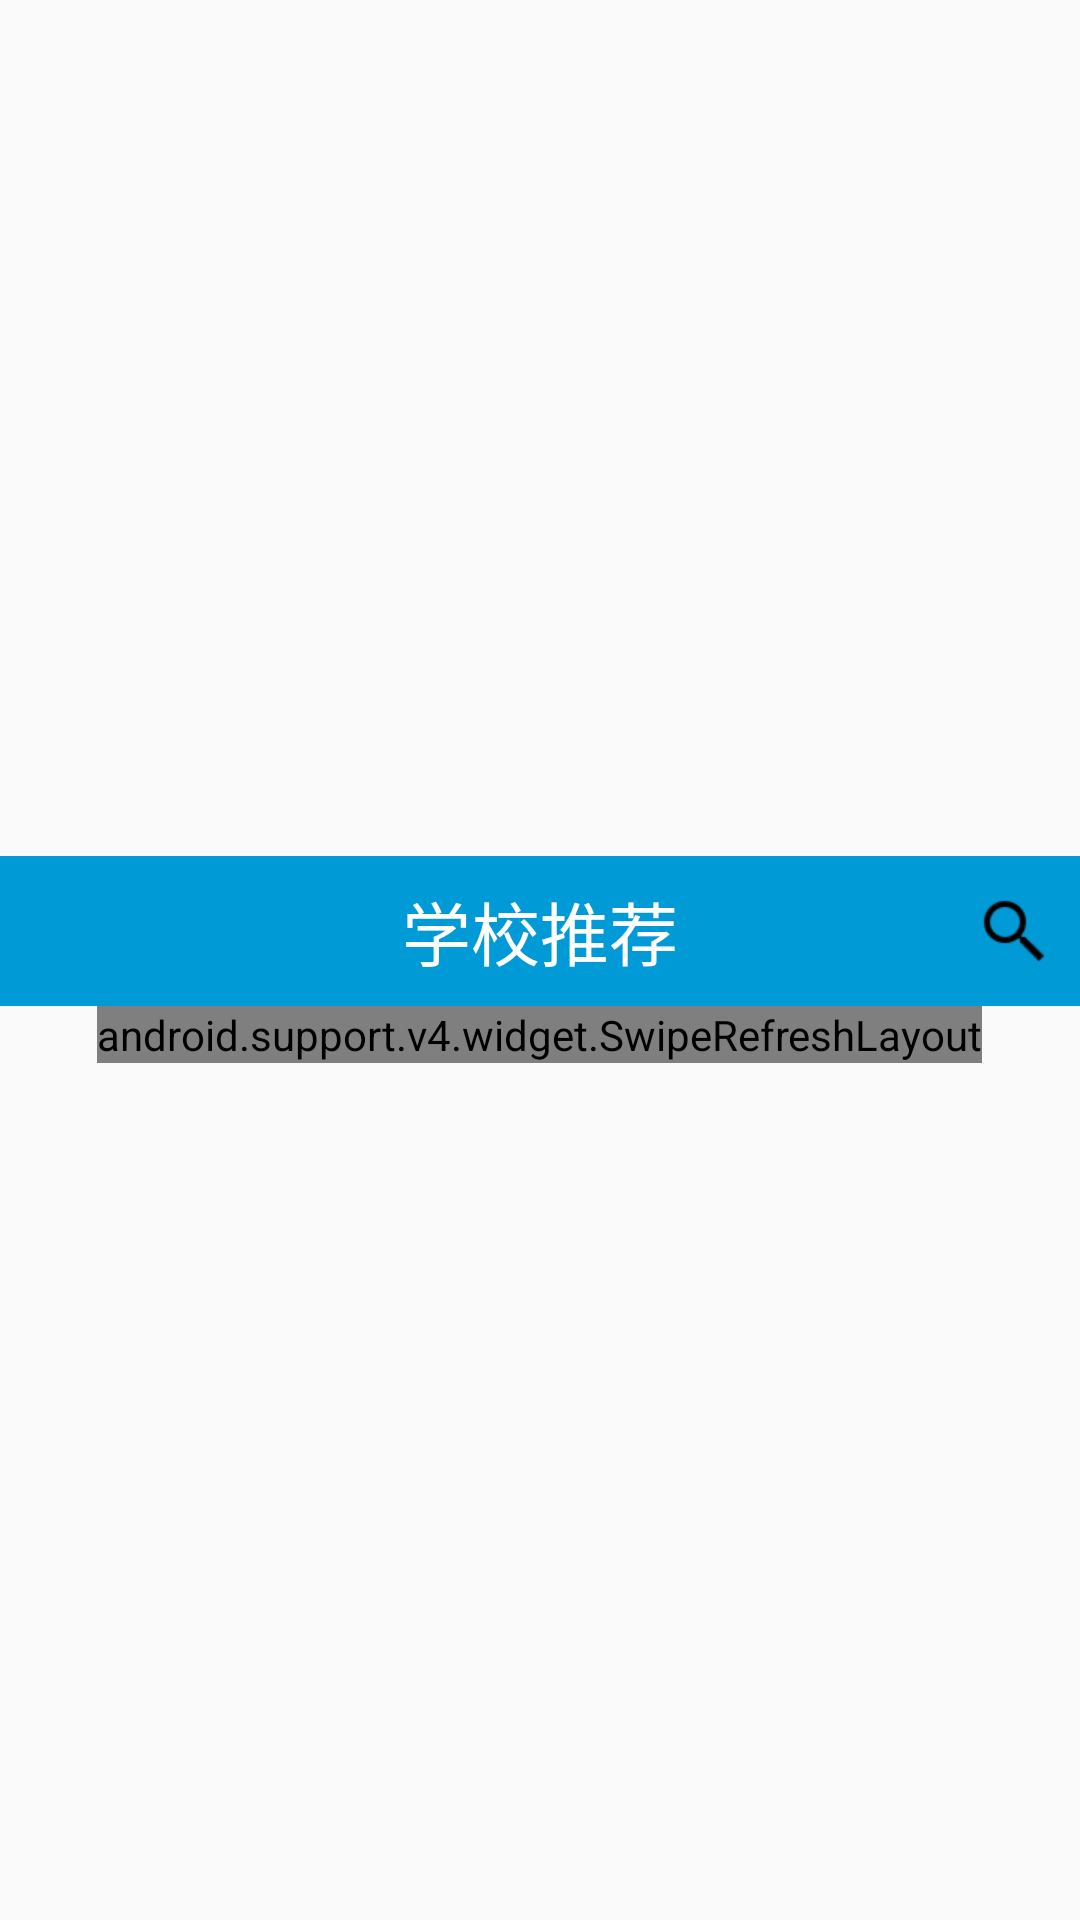

Screen size 1080x1920. Icon name, then its box in pixels as (x1, y1, x2, y2):
search: (983, 900, 1044, 961)
